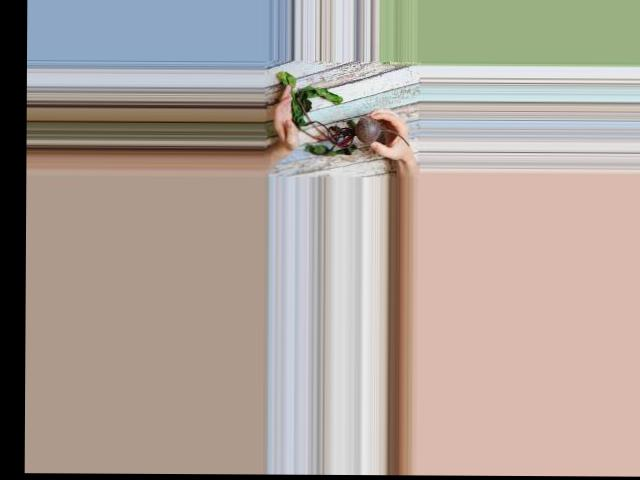beet: (276, 71, 410, 155)
